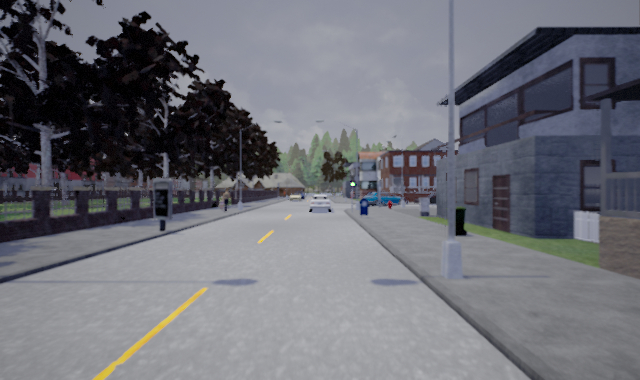pedestrian: (221, 187, 230, 211)
traffic_light: (349, 178, 356, 187)
vehicle: (365, 192, 405, 206), (308, 194, 333, 213), (287, 192, 304, 203)
